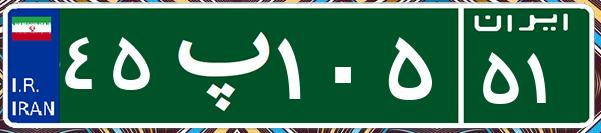0: (330, 28, 385, 110)
1: (273, 28, 330, 110), (525, 38, 570, 115)
4: (57, 26, 110, 107)
5: (385, 28, 445, 110), (475, 38, 525, 113), (110, 28, 158, 105)
پ: (158, 15, 273, 115)
